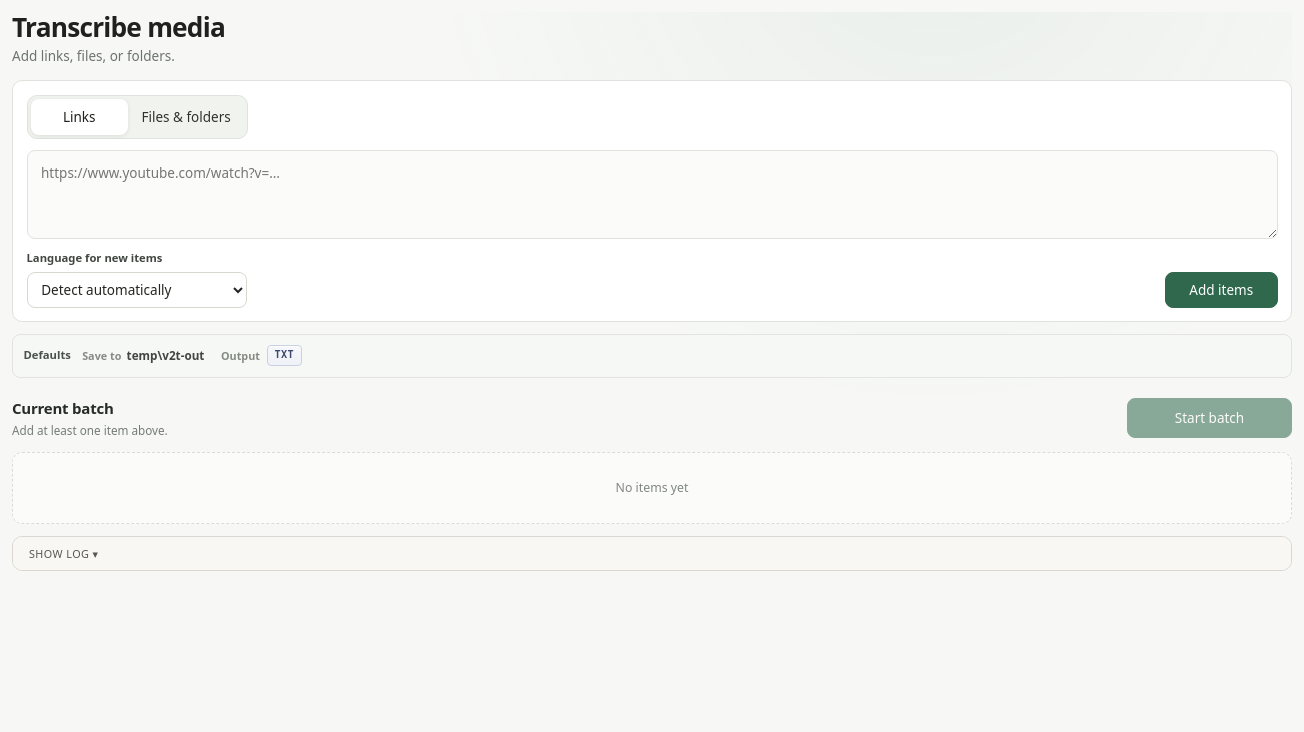
Test: QueuePanel › stop after WASM resolve skips finish, releases slot once, UI cancelled
Type "https://example.com/stop-before-finish" into the text box with test id "url-input".
click(652, 195); type("https://example.com/stop-before-finish")  # box [26,150,1278,239]
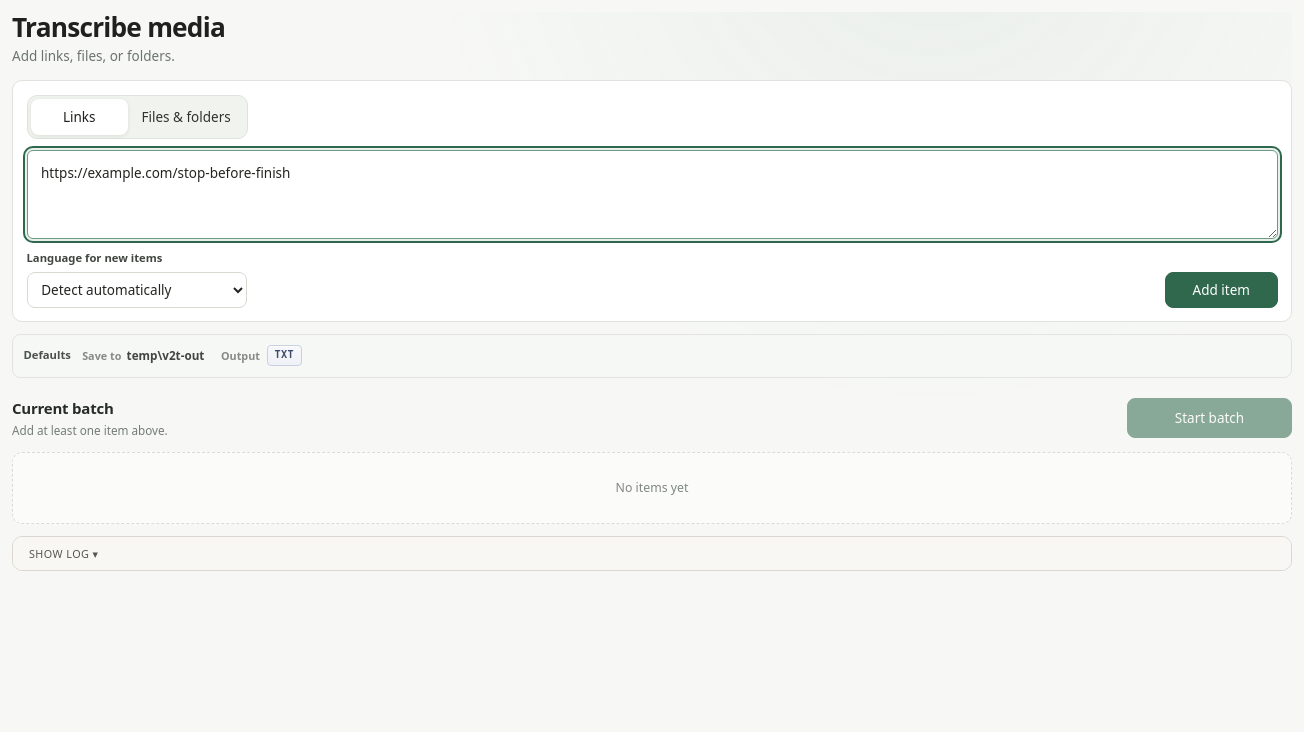
Click the button with test id "add-urls".
click(1221, 290)  # box [1165,272,1278,308]
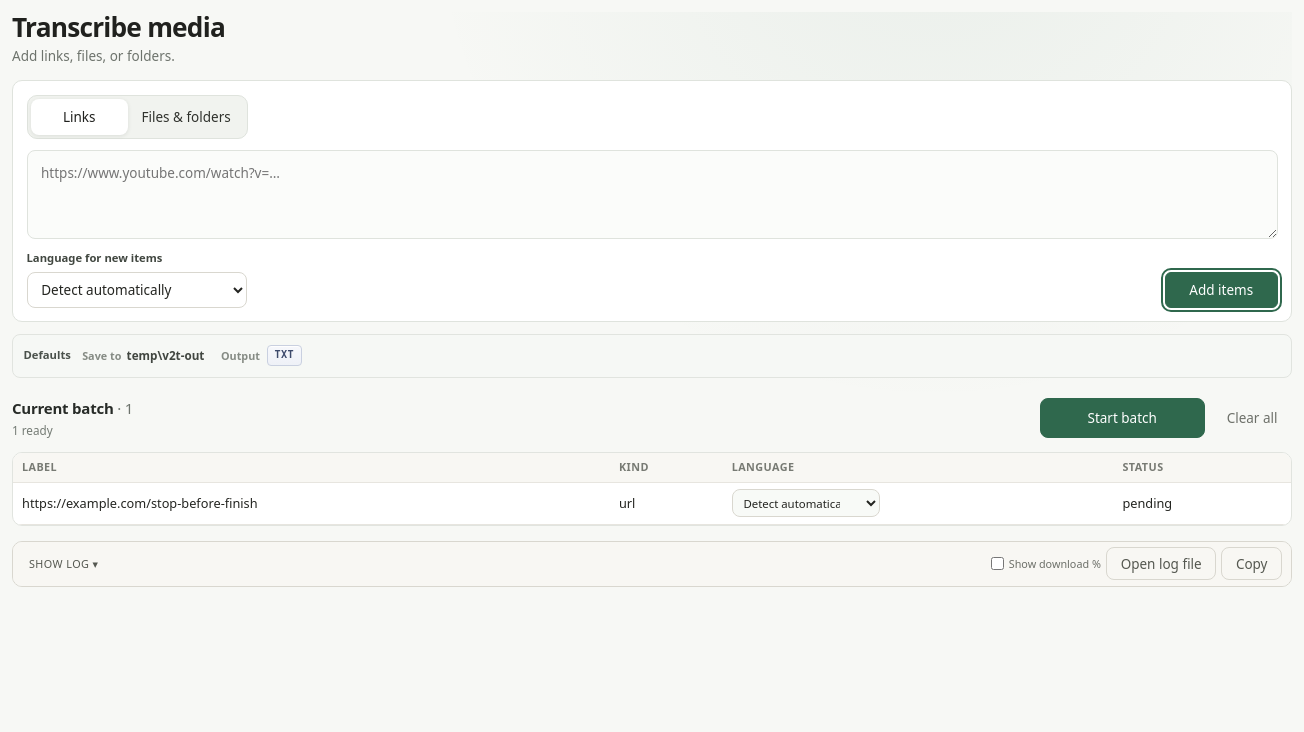
Click the button with test id "start-queue".
click(1122, 418)  # box [1040,398,1205,438]
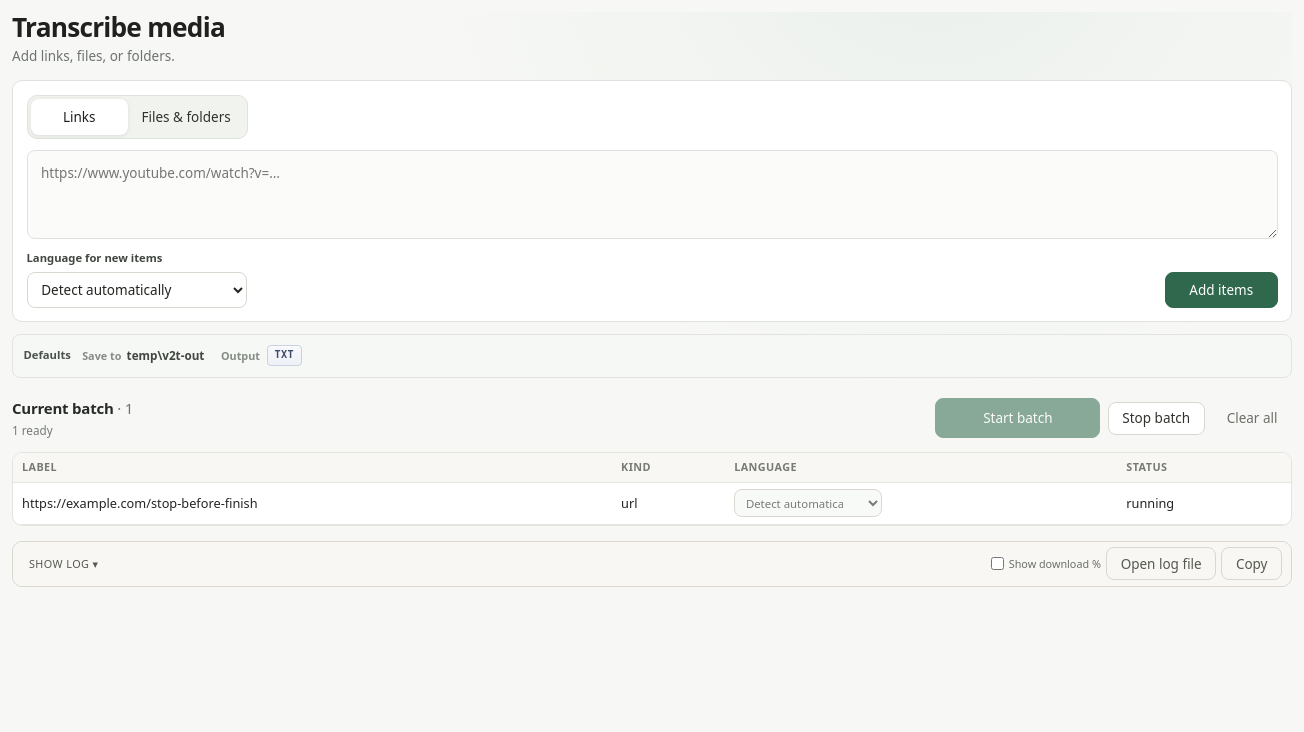
Click the button with test id "stop-queue".
click(1156, 418)  # box [1108,402,1205,435]
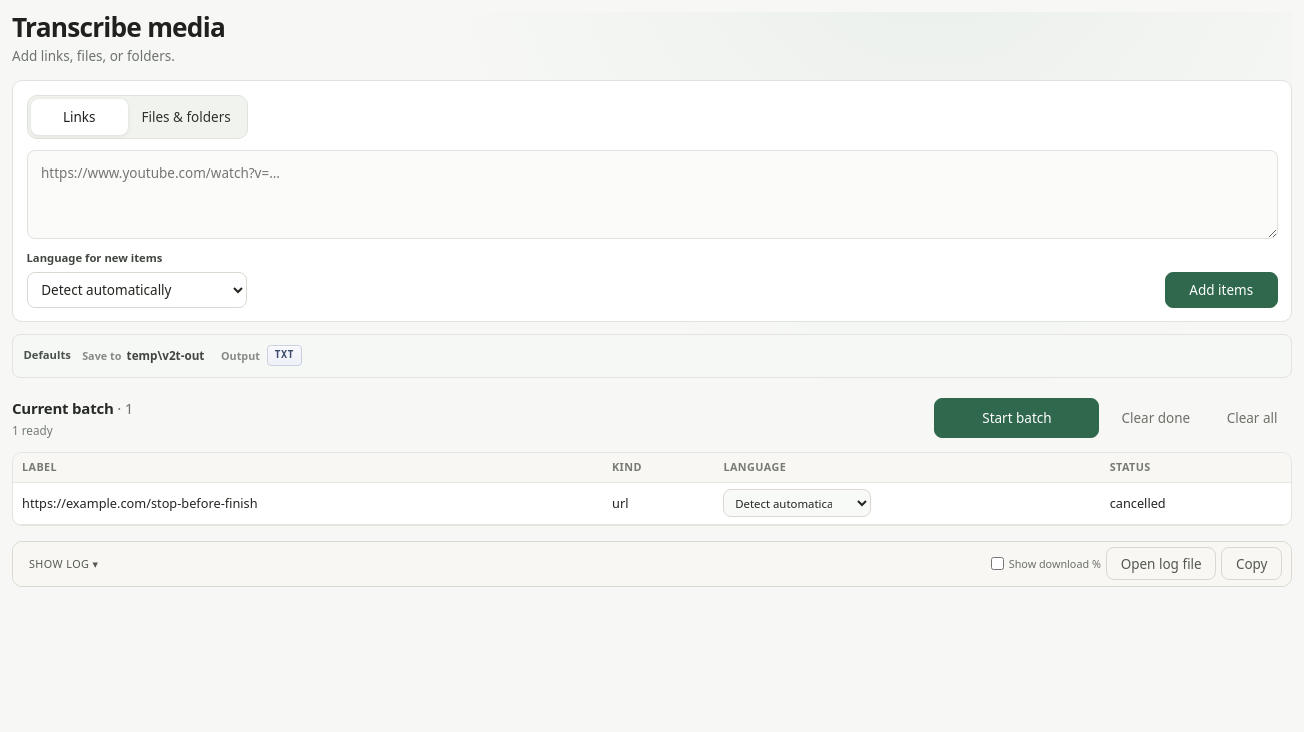
Result: the text with test id "job-status-" reads "cancelled" at [1110,494,1166,512]
